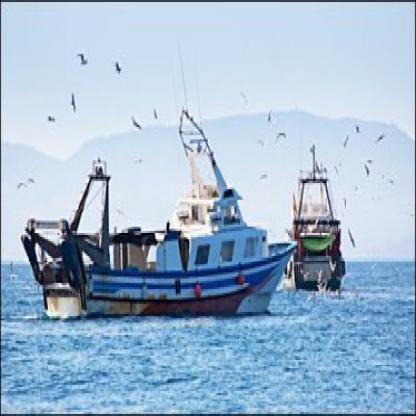fish-b: (21, 95, 306, 330), (282, 141, 355, 308)
